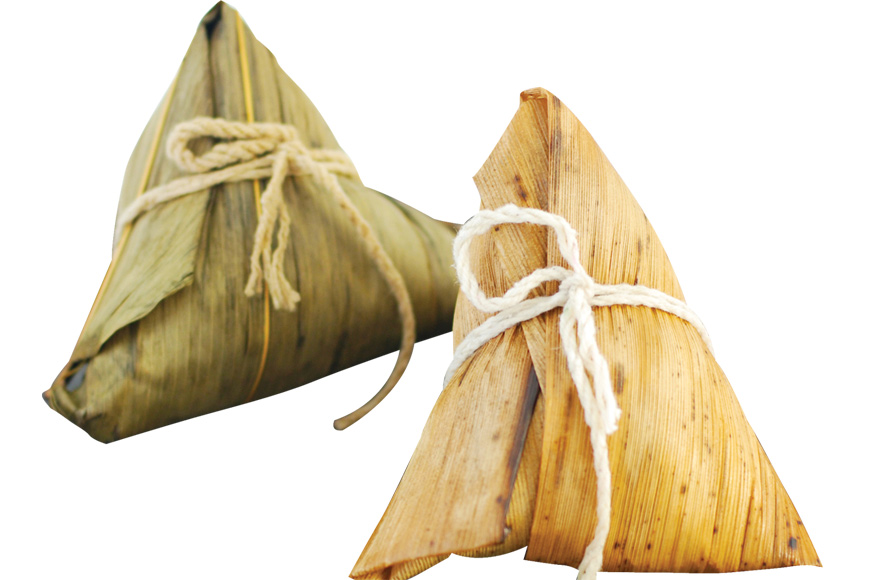zongzi: (351, 91, 817, 579), (46, 3, 457, 442)
